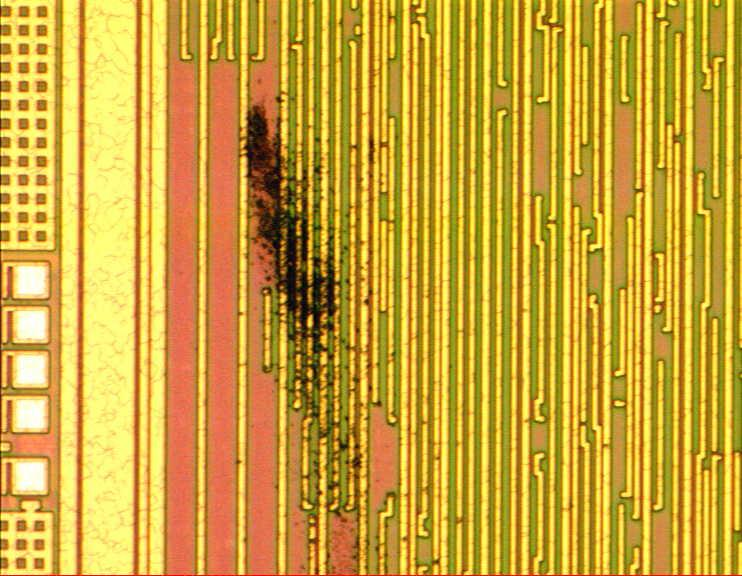PO CONTAMINATION: (236, 91, 378, 575)
